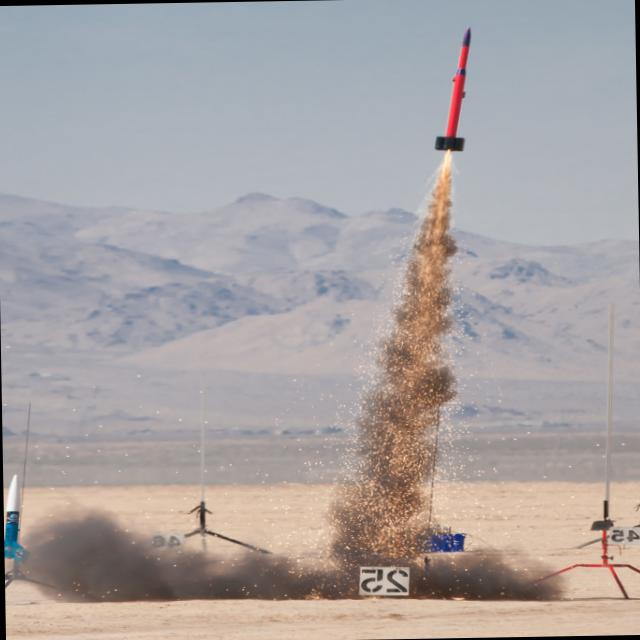rocket: (399, 18, 489, 340)
